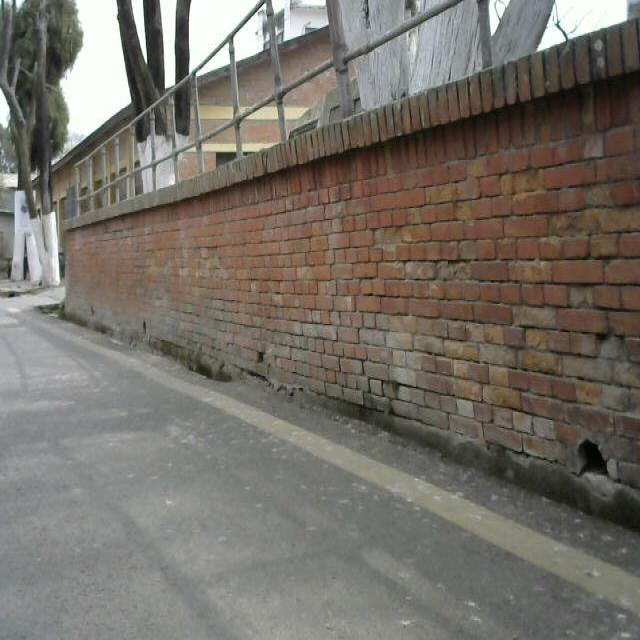Buildings: (63, 26, 640, 382)
Road: (0, 299, 576, 640)
trees: (0, 0, 79, 285)
